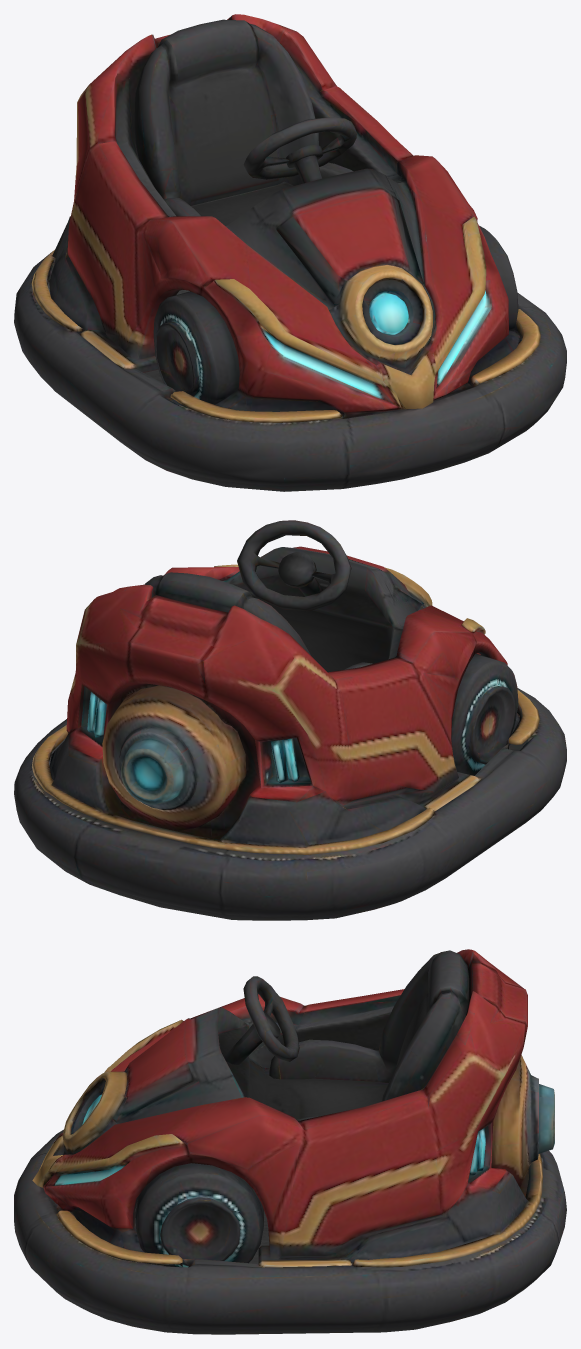
The model's file is BumperCar.fbx.
3 views of the same model, one above another, from view 1: azimuth 30°, elevation 25°; view 2: azimuth 150°, elevation 25°; view 3: azimuth 270°, elevation 25° (orthographic). The views are drawn at different scales.
Visible parts, largest first — view 1: Modelo, roda_direita, Volante, Roda esquerda; view 2: Modelo, roda_direita, Volante; view 3: Modelo, Roda esquerda, Volante.
Part boxes in pixels (x1,y1,x2,y2): Modelo: [14, 14, 566, 491]; roda_direita: [153, 291, 239, 408]; Volante: [243, 117, 356, 179]; Roda esquerda: [479, 225, 518, 331]; Modelo: [14, 546, 566, 920]; roda_direita: [451, 653, 518, 775]; Volante: [237, 520, 351, 611]; Modelo: [14, 949, 566, 1334]; Roda esquerda: [135, 1163, 263, 1267]; Volante: [243, 976, 299, 1061].
Size of the model in its own units: 84.96 by 57.62 by 99.8.
Materials: 1 (1 with a texture image).
